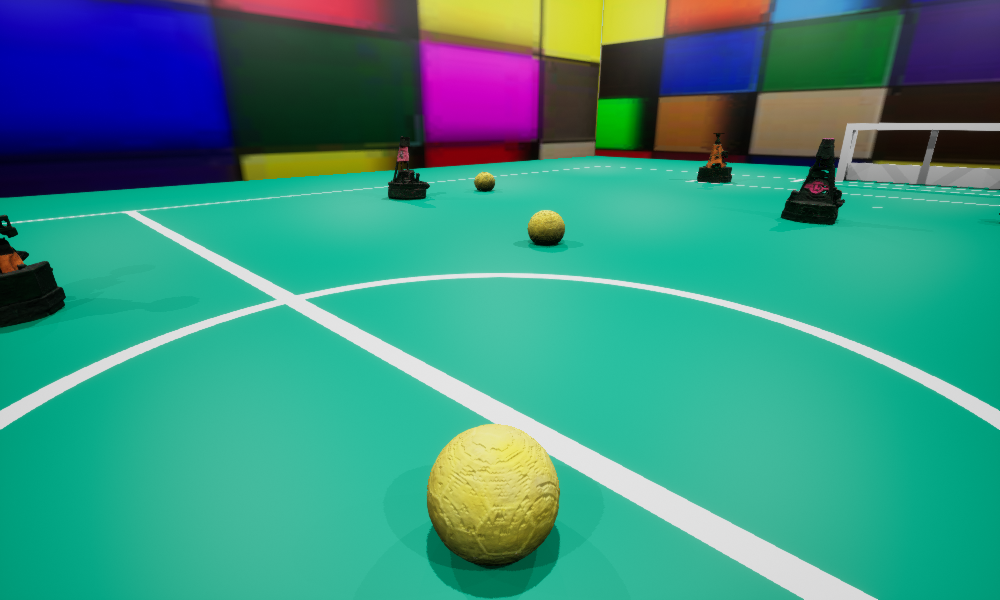b: (427, 424, 559, 565), (527, 210, 564, 244), (474, 172, 494, 190)
o: (0, 215, 65, 327), (697, 133, 731, 182)
p1: (781, 138, 844, 224)
p2: (388, 136, 429, 199)
